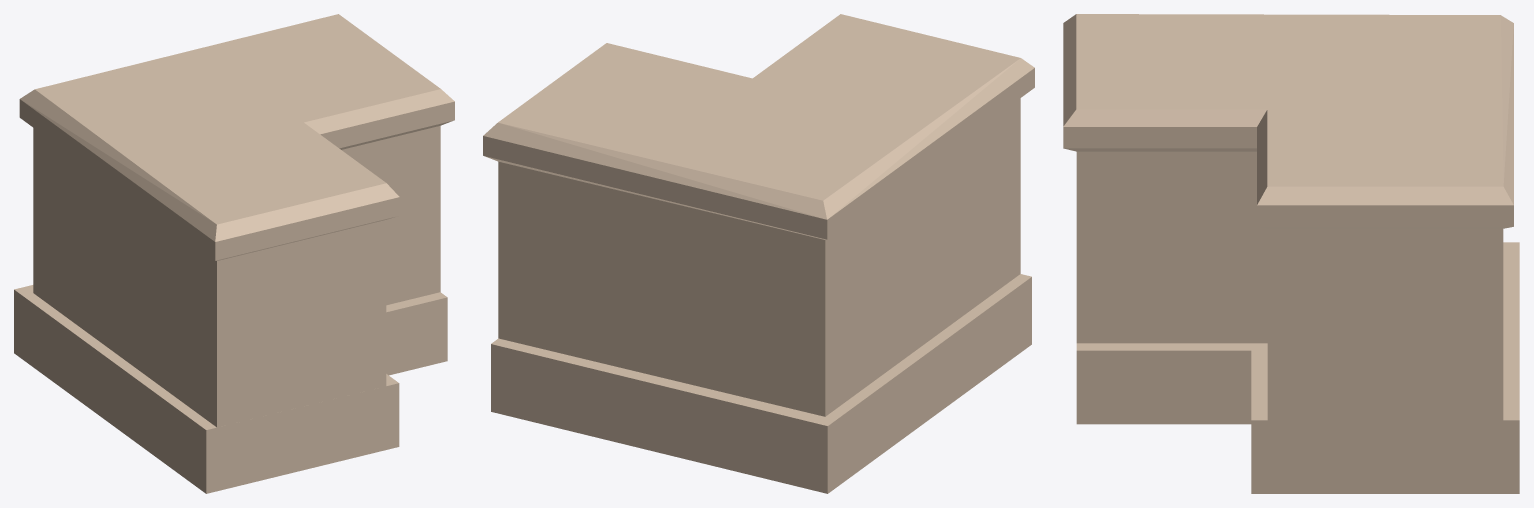
File: BC_Frame_A_03.fbx
3 views of the same model, side by side, from view 1: azimuth 30°, elevation 25°; view 2: azimuth 150°, elevation 25°; view 3: azimuth 270°, elevation 25° (orthographic). The views are drawn at different scales.
Visible parts, largest first — view 1: BC_Frame_A_03; view 2: BC_Frame_A_03; view 3: BC_Frame_A_03.
Part boxes in pixels (x1,y1,x2,y2): BC_Frame_A_03: (14,14,454,493); BC_Frame_A_03: (483,14,1034,493); BC_Frame_A_03: (1063,14,1519,493).
Bounding box in the file's own units: 157 × 122 × 165.
